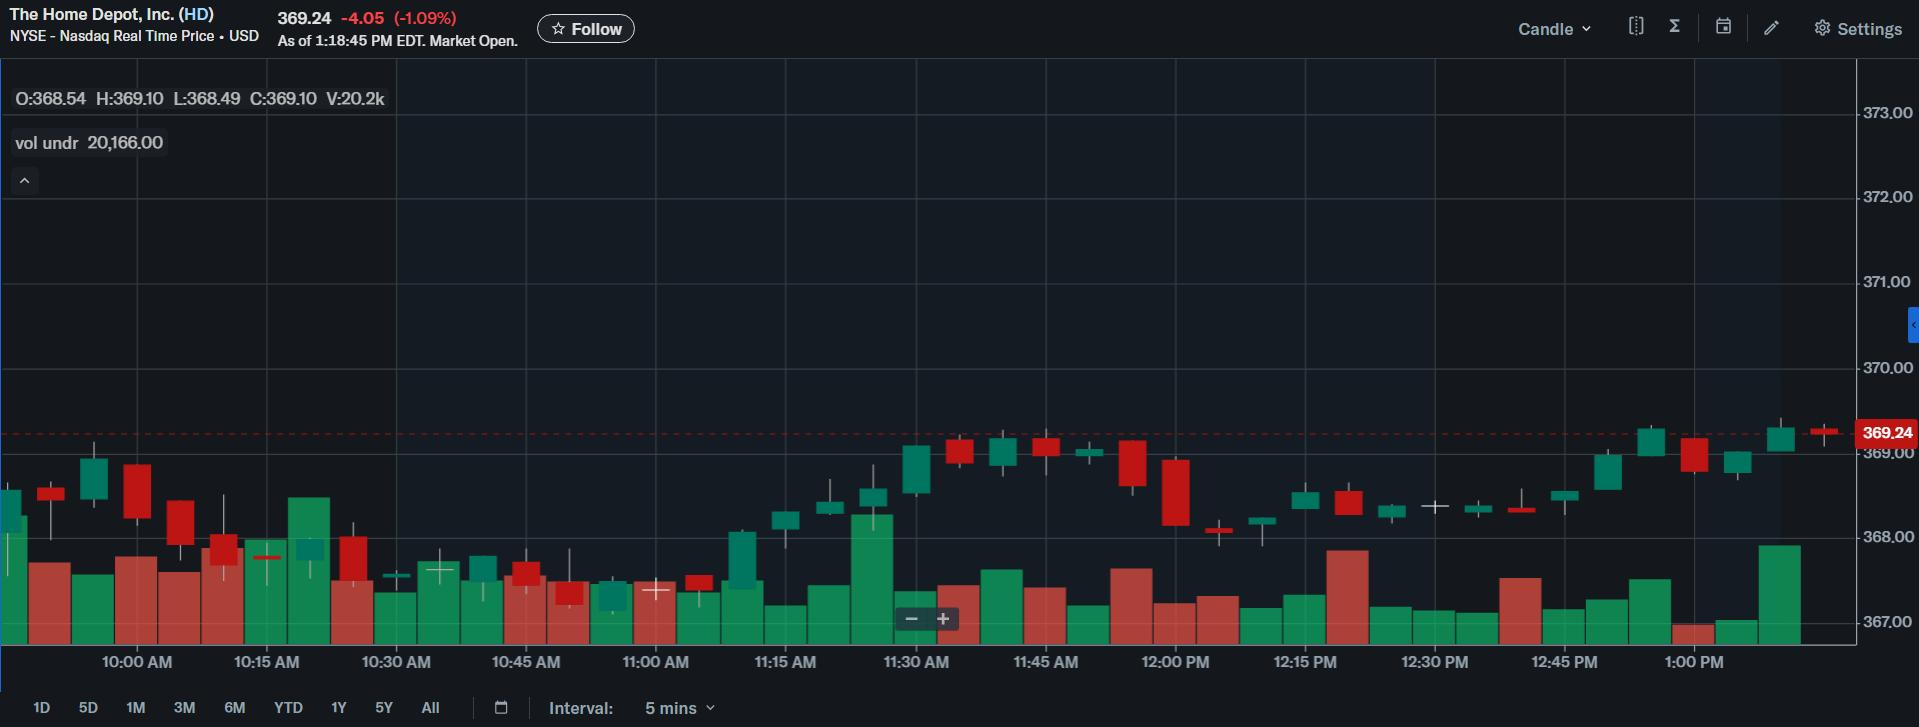Downtrend: (94, 409, 225, 563)
Sideways: (1218, 400, 1553, 567)
Uptrend: (754, 410, 926, 536)
